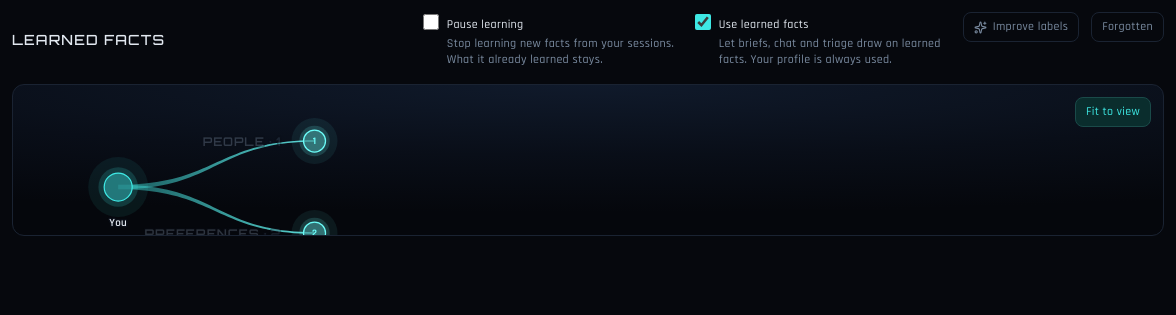
Test: TwinMemoryGraph — pause learning kill-switch › flips the facts switch on its own and writes nothing else
Click the switch labelled "Use learned facts" at coordinates (703, 22), box [695,14,711,30]
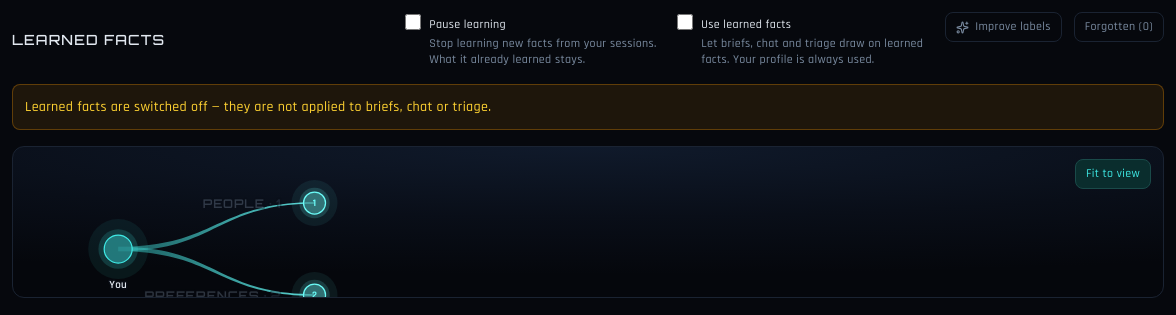
Check: the switch labelled "Pause learning" is not checked, box [405,14,421,30]
Check: the switch labelled "Use learned facts" is not checked, box [677,14,693,30]
Check: the message shows "Learned facts are switched off", box [25,98,491,116]
